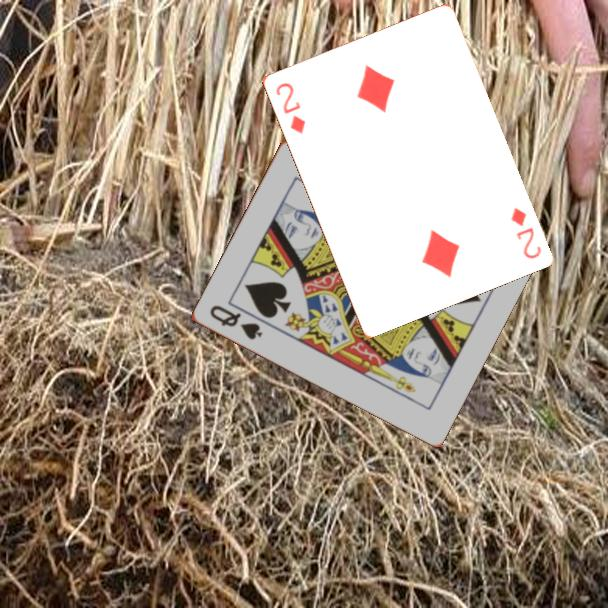d02: (506, 204, 544, 262), (272, 79, 308, 137)
s12: (206, 301, 265, 343)
